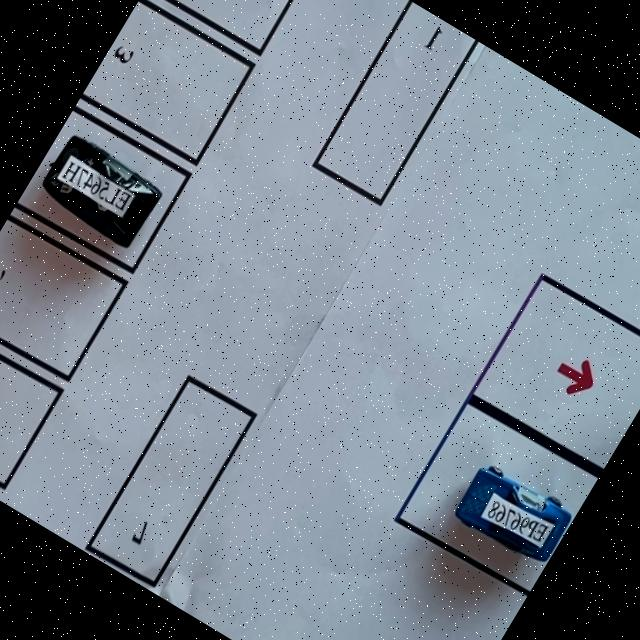car: (28, 126, 170, 256), (446, 454, 578, 576)
